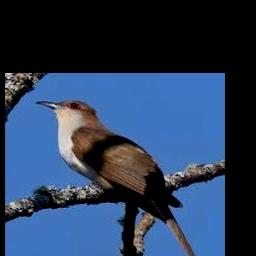Cuckoo: (35, 100, 205, 256)
